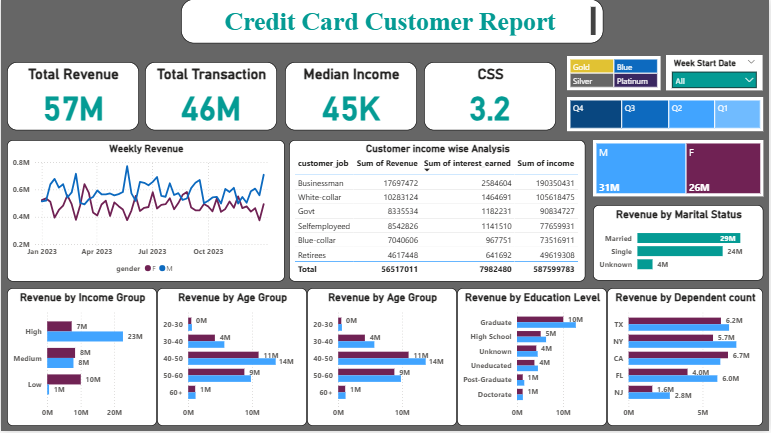

What the dashboard file says about the page in this screenshot:
{"tool":"powerbi","page":{"name":"cc_customer","canvas":[1280,720],"ordinal":1},"visuals":[{"type":"textbox","box":[300,0,704.3,74.3],"z":0},{"type":"clusteredBarChart","title":"Revenue by Income Group","fields":{"Category":["public cust_detail.IncomeGroup"],"Y":["Sum(public cc_detail.Revenue)"],"Series":["public cust_detail.gender"]},"box":[10,481.4,250,230],"z":1},{"type":"tableEx","title":"Customer income wise Analysis","fields":{"Values":["public cust_detail.customer_job","Sum(public cc_detail.Revenue)","Sum(public cc_detail.interest_earned)","Sum(public cust_detail.income)"]},"box":[480,235.7,494.3,235.7],"z":2},{"type":"card","title":"Total Revenue","fields":{"Values":["Sum(public cc_detail.Revenue)"]},"box":[10,105.7,220,114.3],"z":3},{"type":"card","title":"Total Transaction","fields":{"Values":["Sum(public cc_detail.total_trans_amt)"]},"box":[240,105.7,220,114.3],"z":4},{"type":"card","title":"Median Income","fields":{"Values":["Median(public cust_detail.income)"]},"box":[472.9,105.7,220,114.3],"z":5},{"type":"card","title":"CSS","fields":{"Values":["Avg(public cust_detail.cust_satisfaction_score)"]},"box":[704.3,105.7,220,114.3],"z":6},{"type":"slicer","fields":{"Values":["public cc_detail.week_start_date"]},"box":[1108.6,92.9,161.4,58.6],"z":7},{"type":"treemap","fields":{"Group":["public cc_detail.qtr"],"Values":["Avg(public cc_detail.client_num)"]},"box":[942.9,162.9,327.1,57.1],"z":8},{"type":"treemap","fields":{"Values":["Avg(public cc_detail.client_num)"],"Group":["public cc_detail.card_category"]},"box":[942.9,94.3,155.7,57.1],"z":10},{"type":"lineChart","title":"Weekly Revenue","fields":{"Y":["Sum(public cc_detail.Revenue)"],"Series":["public cust_detail.gender"],"Category":["public cc_detail.week_start_date.Variation.Date Hierarchy.Year","public cc_detail.week_start_date.Variation.Date Hierarchy.Quarter","public cc_detail.week_start_date.Variation.Date Hierarchy.Month","public cc_detail.week_start_date.Variation.Date Hierarchy.Day"]},"box":[10,235.7,462.9,235.7],"z":11},{"type":"treemap","fields":{"Group":["public cust_detail.gender"],"Values":["Sum(public cc_detail.Revenue)"]},"box":[987.1,235.7,284.3,94.3],"z":12},{"type":"clusteredBarChart","title":"Revenue by Age Group","fields":{"Y":["Sum(public cc_detail.Revenue)"],"Category":["public cust_detail.AgeGroup"],"Series":["public cust_detail.gender"]},"box":[260,481.4,250,230],"z":13},{"type":"clusteredBarChart","title":"Revenue by Education Level","fields":{"Y":["Sum(public cc_detail.Revenue)"],"Category":["public cust_detail.education_level"],"Series":["public cust_detail.gender"]},"box":[760,481.4,250,230],"z":14},{"type":"clusteredBarChart","title":"Revenue by Age Group","fields":{"Y":["Sum(public cc_detail.Revenue)"],"Category":["public cust_detail.AgeGroup"],"Series":["public cust_detail.gender"]},"box":[510,481.4,250,230],"z":15},{"type":"clusteredBarChart","title":"Revenue by Dependent count","fields":{"Y":["Sum(public cc_detail.Revenue)"],"Category":["public cust_detail.state_cd"],"Series":["public cust_detail.gender"]},"box":[1010,481.4,260,230],"z":16},{"type":"clusteredBarChart","title":"Revenue by Marital Status","fields":{"Y":["Sum(public cc_detail.Revenue)"],"Category":["public cust_detail.marital_status"]},"box":[987.1,342.9,284.3,125.7],"z":17}]}

Visuals, with their boxes in screenshot pixels (x1, y1, x2, y2), scaled from the page's 1280x720 canvas onto the 771x433 screenshot:
textbox: x1=181, y1=0, x2=605, y2=45
"Revenue by Income Group" clusteredBarChart: x1=6, y1=290, x2=157, y2=428
"Customer income wise Analysis" tableEx: x1=289, y1=142, x2=587, y2=283
"Total Revenue" card: x1=6, y1=64, x2=139, y2=132
"Total Transaction" card: x1=145, y1=64, x2=277, y2=132
"Median Income" card: x1=285, y1=64, x2=417, y2=132
"CSS" card: x1=424, y1=64, x2=557, y2=132
slicer - public cc_detail.week_start_date: x1=668, y1=56, x2=765, y2=91
treemap - public cc_detail.qtr x Avg(public cc_detail.client_num): x1=568, y1=98, x2=765, y2=132
treemap - Avg(public cc_detail.client_num) x public cc_detail.card_category: x1=568, y1=57, x2=662, y2=91
"Weekly Revenue" lineChart: x1=6, y1=142, x2=285, y2=283
treemap - public cust_detail.gender x Sum(public cc_detail.Revenue): x1=595, y1=142, x2=766, y2=198
"Revenue by Age Group" clusteredBarChart: x1=157, y1=290, x2=307, y2=428
"Revenue by Education Level" clusteredBarChart: x1=458, y1=290, x2=608, y2=428
"Revenue by Age Group" clusteredBarChart: x1=307, y1=290, x2=458, y2=428
"Revenue by Dependent count" clusteredBarChart: x1=608, y1=290, x2=765, y2=428
"Revenue by Marital Status" clusteredBarChart: x1=595, y1=206, x2=766, y2=282
